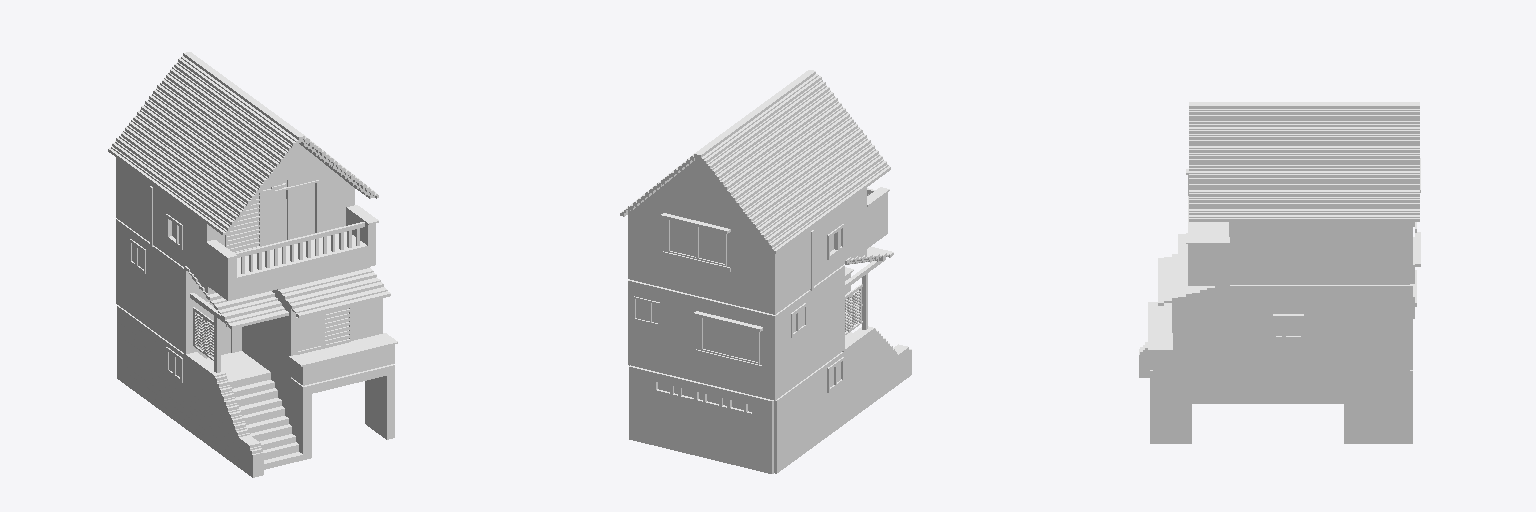
Rendered from GDS2_Build1-1.obj.
3 renders of one model, left to right at view 1: azimuth 30°, elevation 25°; view 2: azimuth 150°, elevation 25°; view 3: azimuth 270°, elevation 25°, orthographic.
Parts seen in each view (by area): view 1: object 1; view 2: object 1; view 3: object 1.
Part boxes in pixels (left/top/right/bottom): object 1: left=108, top=52, right=397, bottom=477; object 1: left=620, top=70, right=911, bottom=473; object 1: left=1139, top=102, right=1420, bottom=443.
Bounding box in the file's own units: 11.4 × 21.3 × 17.9.